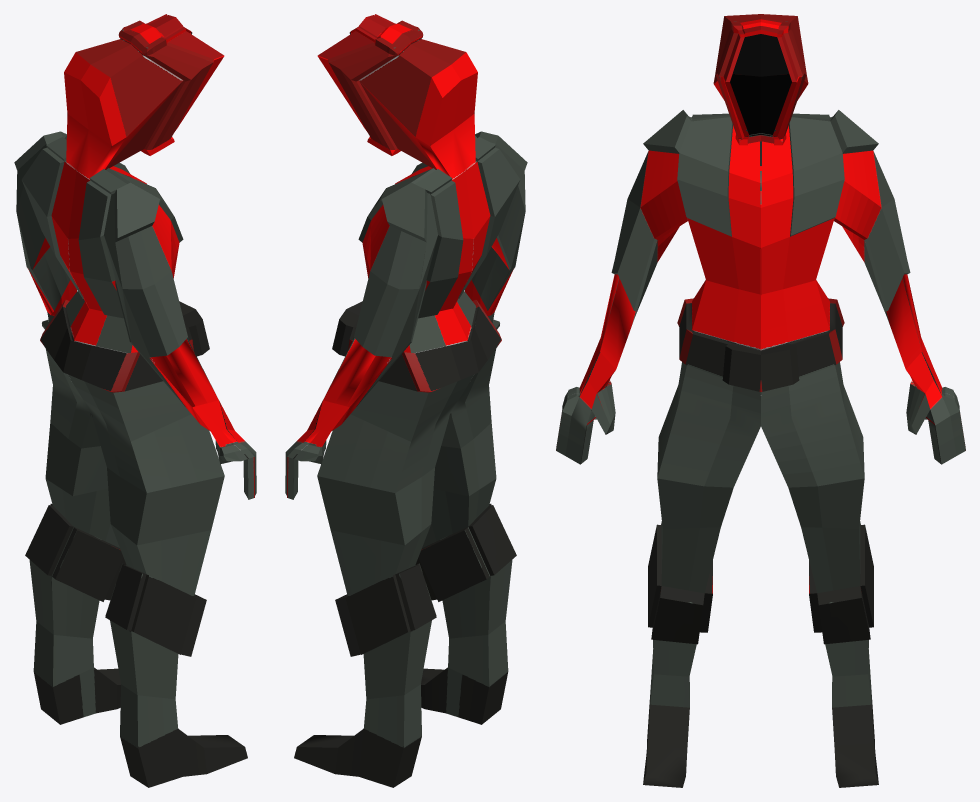
The model's file is enemy_v2.fbx.
3 renders of one model, left to right at view 1: azimuth 30°, elevation 25°; view 2: azimuth 150°, elevation 25°; view 3: azimuth 270°, elevation 25°, orthographic. The views are drawn at different scales.
Visible parts, largest first — view 1: Cube.001; view 2: Cube.001; view 3: Cube.001.
Boxes of the visible parts, x1,y1,x2,y2 form: Cube.001: (14,14,256,787); Cube.001: (285,14,527,787); Cube.001: (556,14,965,787).
Size of the model in its own units: 75.21 by 350 by 172.
1 material, 1 textured.
